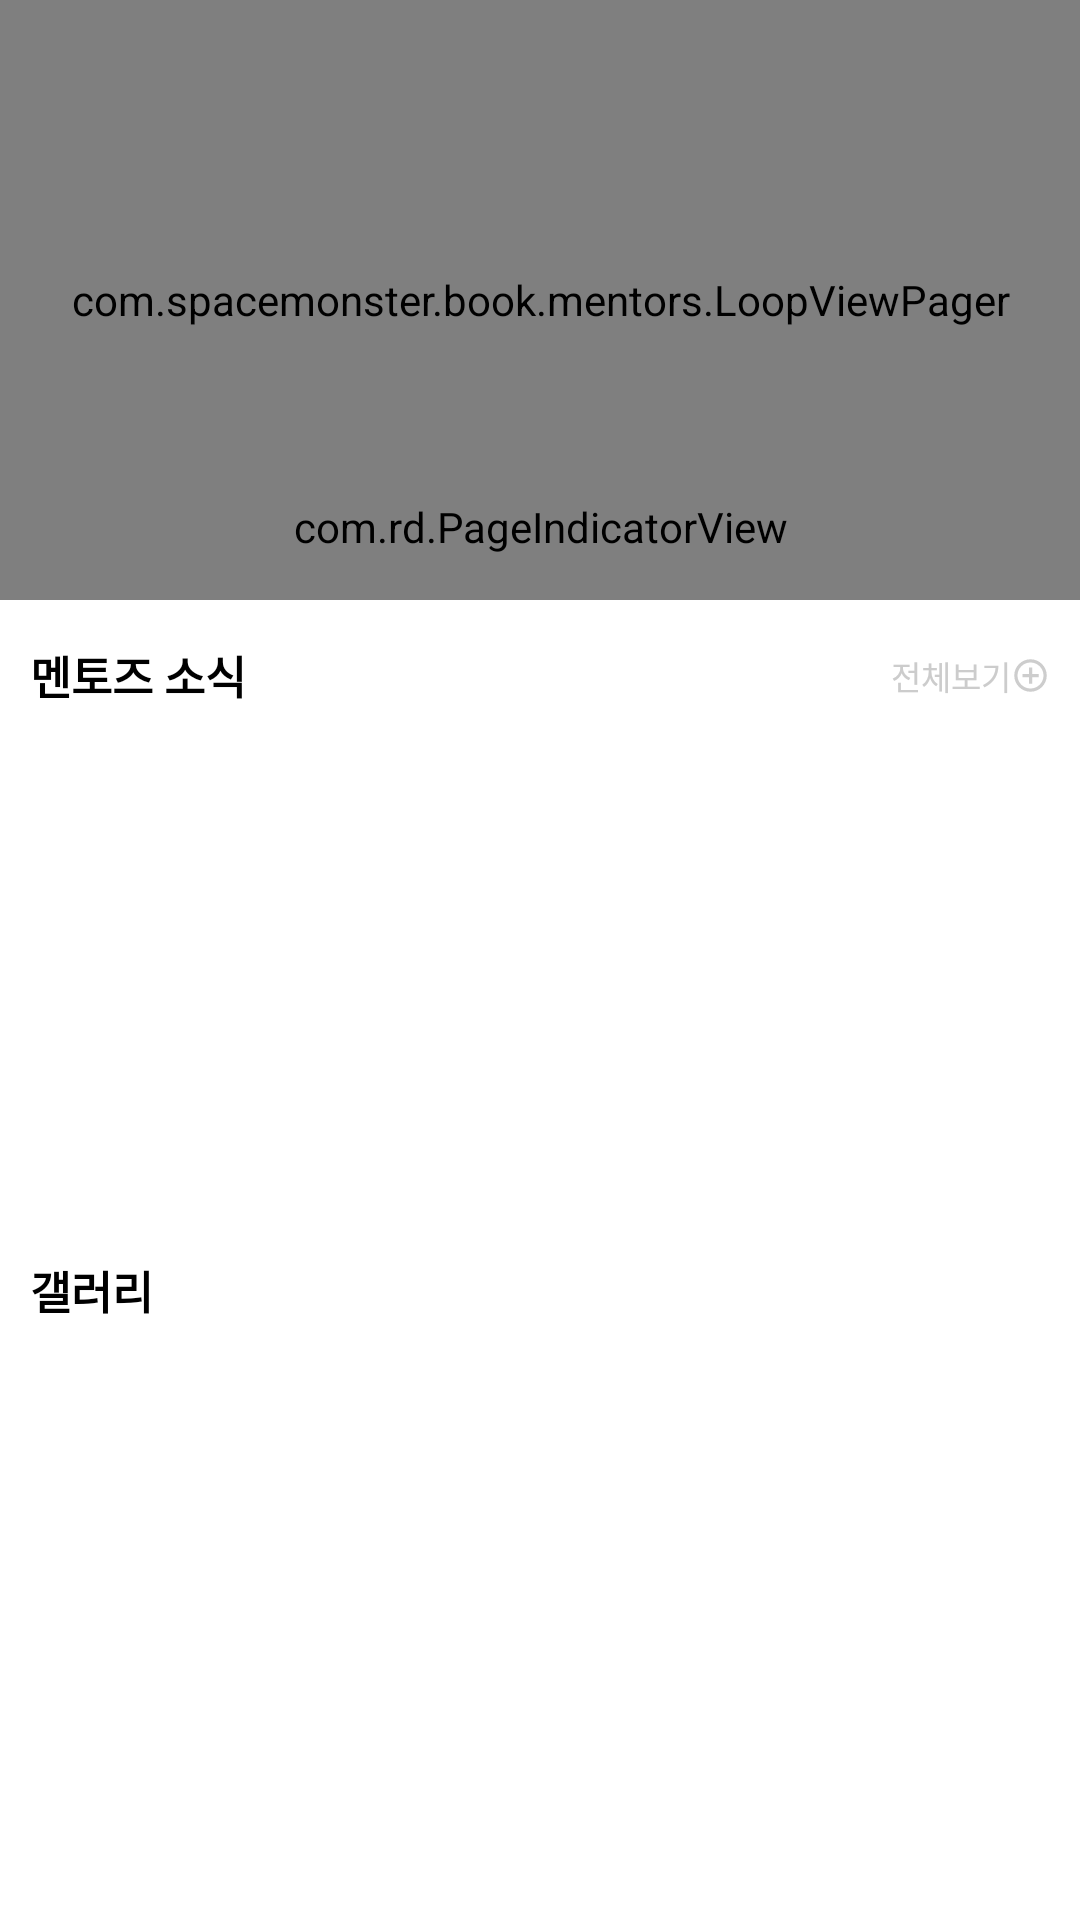

Screen size 1080px×1920px. Icon name, then its center in pixels as (x=x, y=y):
add circle: (x=1030, y=675)
